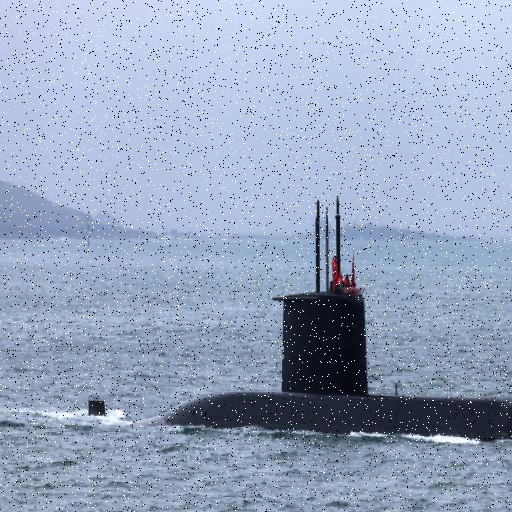submarine: (86, 189, 512, 438)
